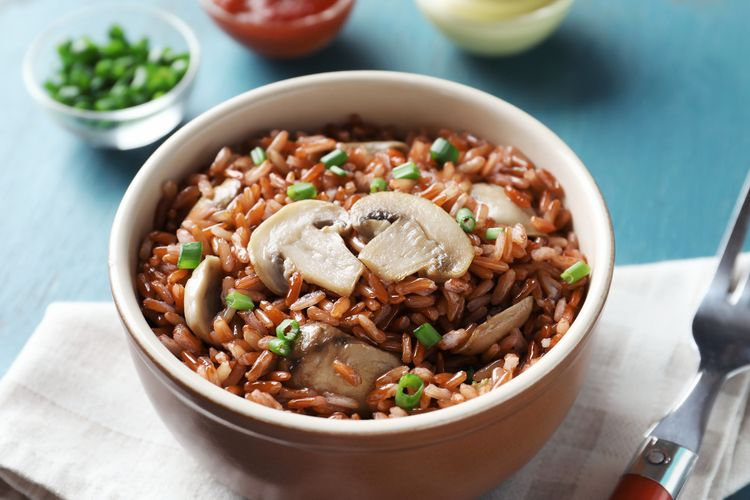Nasi Merah: (116, 83, 613, 417)
